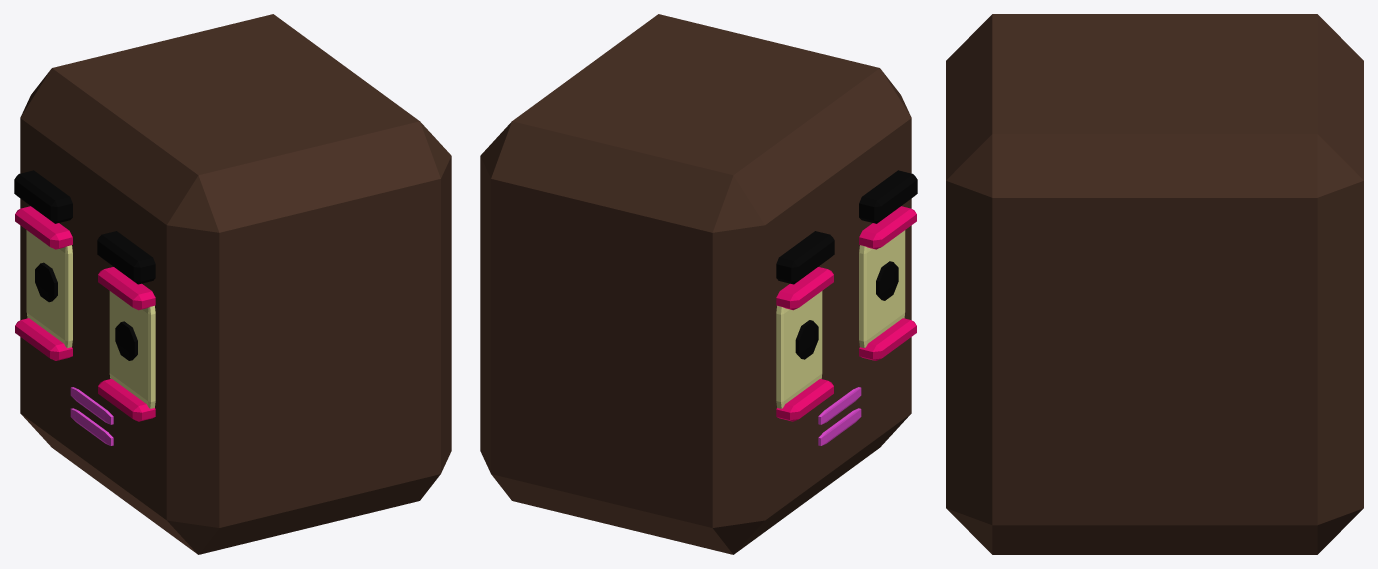
The model's file is boss03.glb.
The picture shows the model from 3 angles, left to right: view 1: azimuth 30°, elevation 25°; view 2: azimuth 150°, elevation 25°; view 3: azimuth 270°, elevation 25°; orthographic projection. The views are drawn at different scales.
Visible parts, largest first — view 1: head, Cube.002, EyeBrown, lip_up, lip_down', eye, eyes, mouth, mouth'; view 2: head, Cube.002, EyeBrown, lip_up, lip_down', eyes, eye, mouth, mouth'; view 3: head.
Part boxes in pixels (bbox=[...]): head: bbox=[20, 14, 451, 554]; Cube.002: bbox=[26, 230, 155, 408]; EyeBrown: bbox=[14, 170, 155, 284]; lip_up: bbox=[15, 206, 155, 310]; lip_down': bbox=[15, 318, 155, 421]; eye: bbox=[115, 321, 137, 360]; eyes: bbox=[35, 262, 57, 302]; mouth: bbox=[70, 387, 113, 424]; mouth': bbox=[70, 408, 113, 445]; head: bbox=[480, 14, 911, 554]; Cube.002: bbox=[776, 230, 905, 408]; EyeBrown: bbox=[776, 170, 917, 284]; lip_up: bbox=[776, 206, 916, 310]; lip_down': bbox=[776, 318, 916, 421]; eyes: bbox=[795, 320, 818, 359]; eye: bbox=[876, 261, 898, 300]; mouth: bbox=[818, 387, 861, 424]; mouth': bbox=[818, 408, 861, 445]; head: bbox=[946, 14, 1363, 554].
Bounding box in the file's own units: 1.68 × 2 × 1.8.
